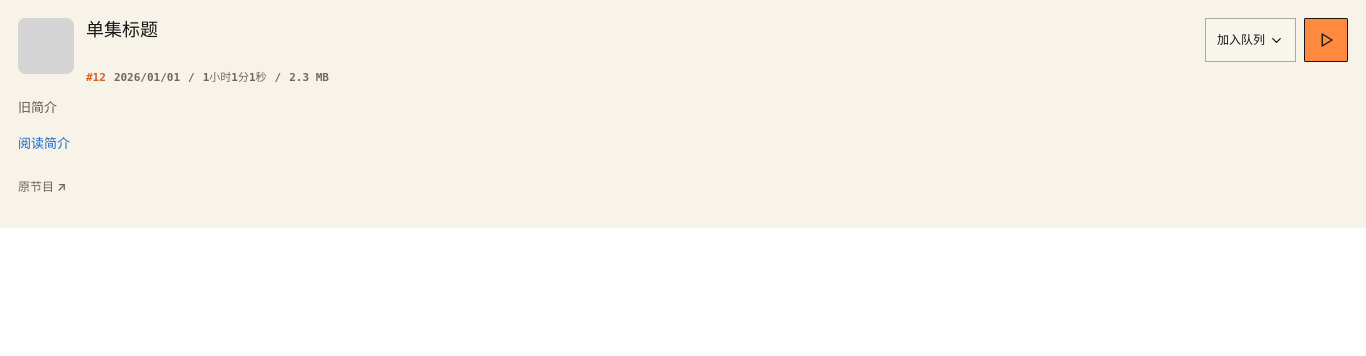
EpisodeCard › offers recovery from the explicit original episode link
Click the link "原节目 ↗": (42, 187) x1=18 y1=179 x2=66 y2=194
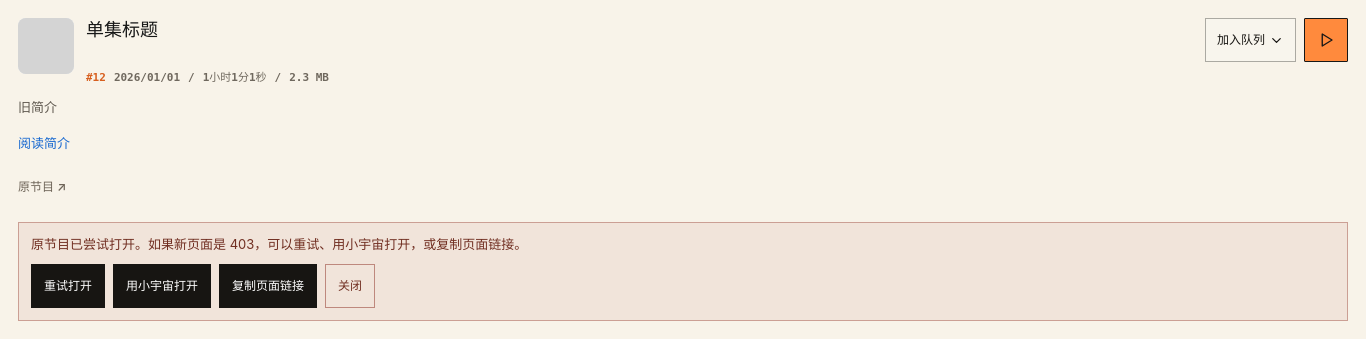
Expected: the element named "原节目页恢复" is shown, x1=18 y1=222 x2=1348 y2=321
